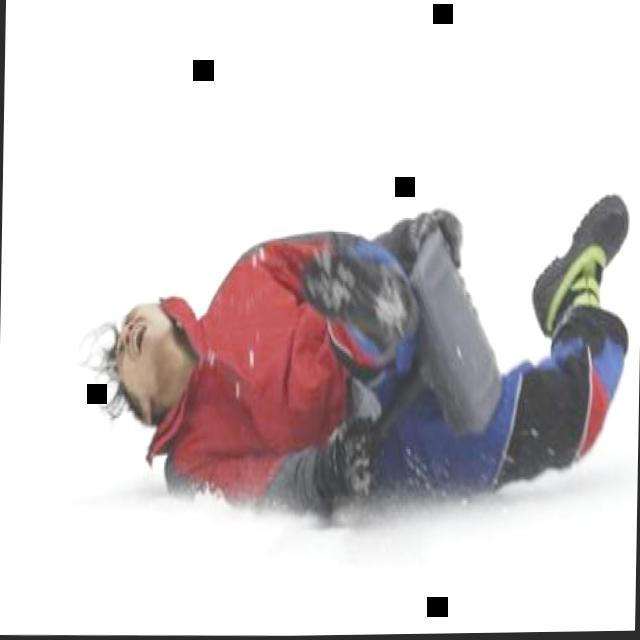Fall-Detected: (74, 149, 640, 555)
